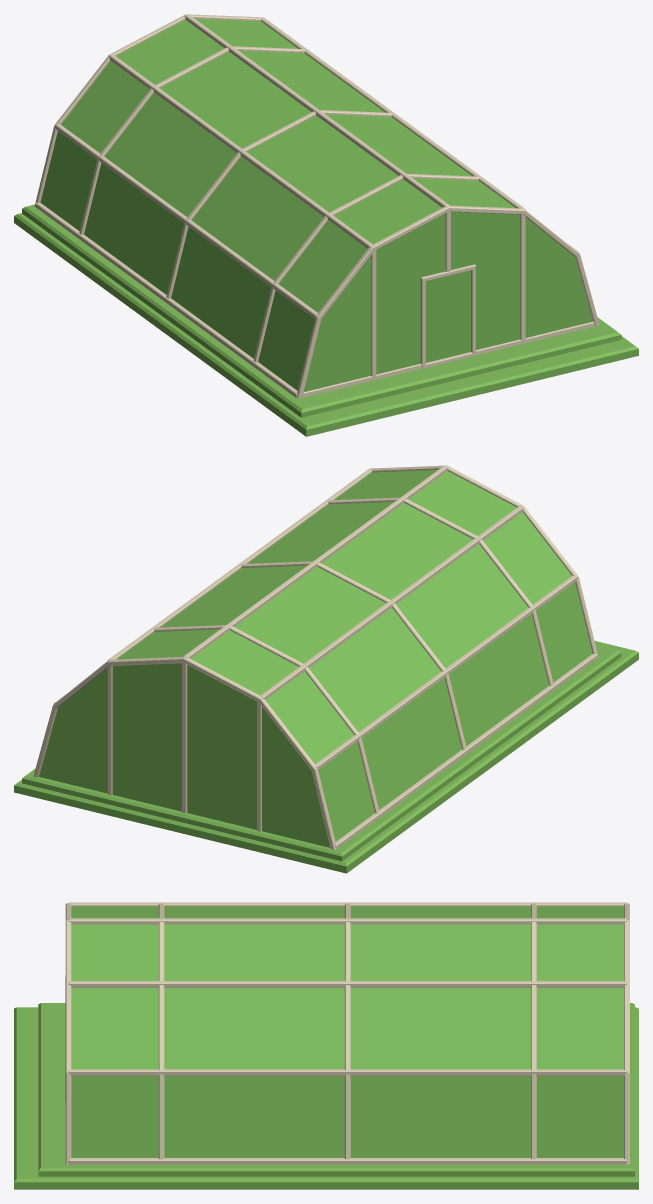
Rendered from greenhouse_b02.gltf.
The picture shows the model from 3 angles, top to bottom: view 1: azimuth 30°, elevation 25°; view 2: azimuth 150°, elevation 25°; view 3: azimuth 270°, elevation 25°; orthographic projection. The views are drawn at different scales.
Parts seen in each view (by area): view 1: greenhouse_b02_001; view 2: greenhouse_b02_001; view 3: greenhouse_b02_001.
Boxes of the visible parts, box(x1,y1,x2,y2) form: greenhouse_b02_001: box(14, 14, 638, 436); greenhouse_b02_001: box(14, 465, 638, 873); greenhouse_b02_001: box(14, 902, 638, 1189).
Size of the model in its own units: 4.71 by 2.33 by 7.18.
Materials: 1 (1 with a texture image).
